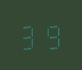nine: (41, 19, 62, 49)
three: (19, 20, 40, 50)
